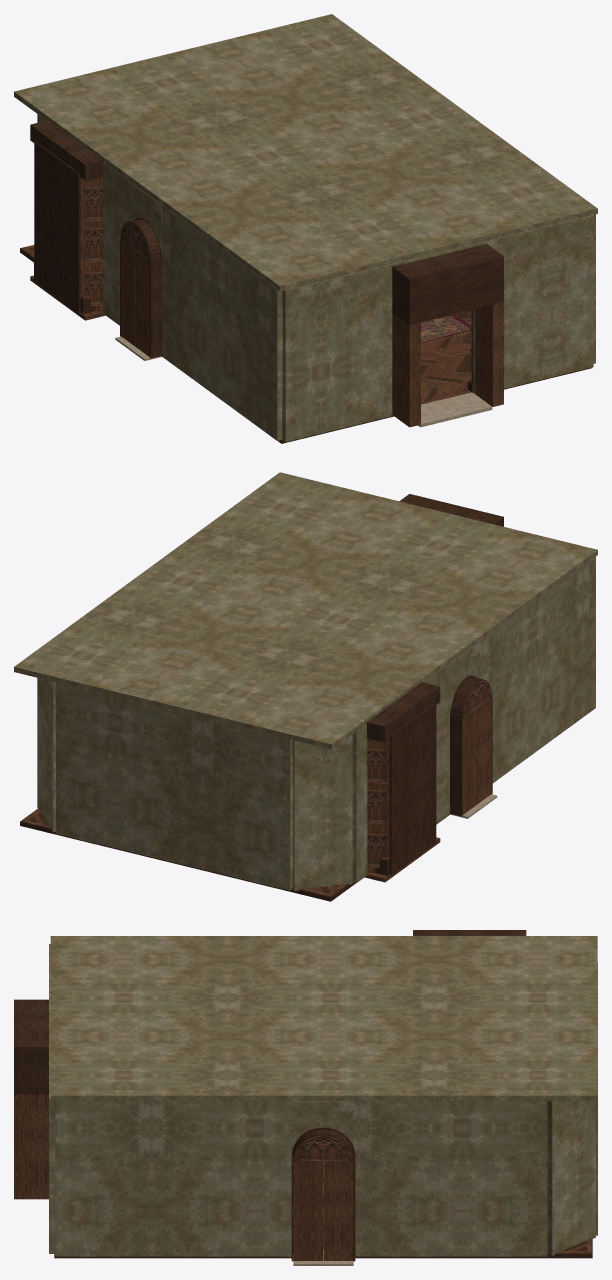
Rendered from Atrio.glb.
3 renders of one model, top to bottom at view 1: azimuth 30°, elevation 25°; view 2: azimuth 150°, elevation 25°; view 3: azimuth 270°, elevation 25°, orthographic. The views are drawn at different scales.
Parts seen in each view (by area): view 1: Teto__Reboco, Entrada__Reboco, Galeria_Oeste__Reboco, Janela_em_Alcova__Ebanizada, Vestibulo__Ebanizada, Vestibulo__Nogueira, Fecho_Oeste__Nogueira, Parquet__Nogueira, Janela_em_Alcova__Talha, Fecho_Oeste__Ebanizada, Janela_em_Alcova__Nogueira, Soleira_Entrada__Calcario (+3 smaller); view 2: Teto__Reboco, Parede_da_Lareira__Reboco, Galeria_Oeste__Reboco, Janela_em_Alcova__Ebanizada, Fecho_Oeste__Nogueira, Fecho_Oeste__Ebanizada, Janela_em_Alcova__Talha, Janela_em_Alcova__Nogueira, Vestibulo__Ebanizada, Base_Piso__Ebanizada, Fecho_Oeste__Talha; view 3: Teto__Reboco, Galeria_Leste__Reboco, Parede_da_Lareira__Reboco, Fecho_Leste__Nogueira, Vestibulo__Nogueira, Vestibulo__Ebanizada, Base_Piso__Ebanizada, Entrada__Reboco, Fecho_Leste__Talha, Fecho_Leste__Ebanizada, Janela_em_Alcova__Ebanizada.
Boxes of the visible parts, x1=… form: Teto__Reboco: x1=14, y1=14, x2=597, y2=291; Entrada__Reboco: x1=282, y1=215, x2=593, y2=441; Galeria_Oeste__Reboco: x1=38, y1=114, x2=282, y2=440; Janela_em_Alcova__Ebanizada: x1=30, y1=120, x2=103, y2=313; Vestibulo__Ebanizada: x1=392, y1=244, x2=503, y2=325; Vestibulo__Nogueira: x1=392, y1=302, x2=503, y2=427; Fecho_Oeste__Nogueira: x1=121, y1=240, x2=149, y2=356; Parquet__Nogueira: x1=21, y1=245, x2=471, y2=404; Janela_em_Alcova__Talha: x1=83, y1=188, x2=103, y2=304; Fecho_Oeste__Ebanizada: x1=120, y1=219, x2=162, y2=358; Janela_em_Alcova__Nogueira: x1=30, y1=176, x2=105, y2=320; Soleira_Entrada__Calcario: x1=418, y1=392, x2=492, y2=427; Teto__Reboco: x1=14, y1=472, x2=597, y2=749; Parede_da_Lareira__Reboco: x1=37, y1=678, x2=352, y2=890; Galeria_Oeste__Reboco: x1=352, y1=556, x2=595, y2=883; Janela_em_Alcova__Ebanizada: x1=366, y1=682, x2=440, y2=875; Fecho_Oeste__Nogueira: x1=462, y1=698, x2=491, y2=814; Fecho_Oeste__Ebanizada: x1=450, y1=677, x2=492, y2=816; Janela_em_Alcova__Talha: x1=367, y1=750, x2=386, y2=866; Janela_em_Alcova__Nogueira: x1=364, y1=738, x2=440, y2=882; Vestibulo__Ebanizada: x1=399, y1=494, x2=503, y2=526; Base_Piso__Ebanizada: x1=20, y1=808, x2=355, y2=901; Fecho_Oeste__Talha: x1=462, y1=680, x2=491, y2=718; Teto__Reboco: x1=50, y1=936, x2=597, y2=1100; Galeria_Leste__Reboco: x1=55, y1=1101, x2=547, y2=1256; Parede_da_Lareira__Reboco: x1=547, y1=962, x2=597, y2=1255; Fecho_Leste__Nogueira: x1=294, y1=1162, x2=353, y2=1260; Vestibulo__Nogueira: x1=14, y1=1094, x2=48, y2=1199; Vestibulo__Ebanizada: x1=14, y1=999, x2=48, y2=1094; Base_Piso__Ebanizada: x1=54, y1=1238, x2=592, y2=1258; Entrada__Reboco: x1=49, y1=944, x2=55, y2=1253; Fecho_Leste__Talha: x1=293, y1=1135, x2=353, y2=1161; Fecho_Leste__Ebanizada: x1=291, y1=1129, x2=355, y2=1261; Janela_em_Alcova__Ebanizada: x1=413, y1=930, x2=526, y2=935.
Bounding box in the file's own units: 34.6 × 14.9 × 47.92.
Materials: 23 (13 with a texture image).
